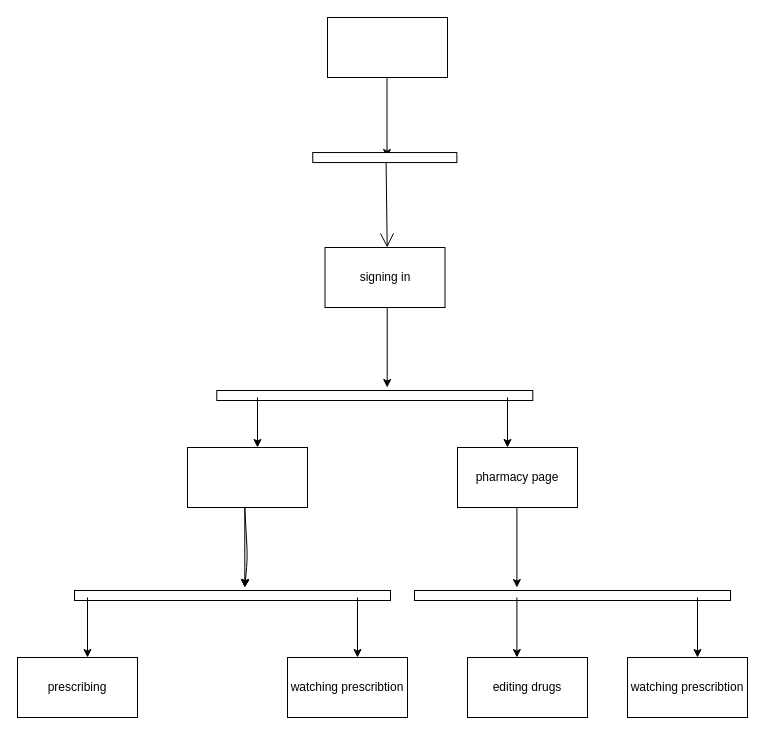
Some shapes in this 765 by 735 pixel diagram are drawn without their labels. Each missing label, with the centre of its shape:
"doctor's page" goes at point 247,477.
"homepage" goes at point 387,47.
